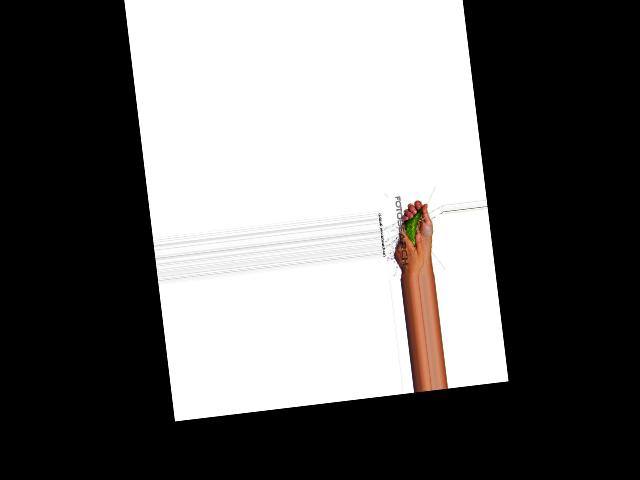cucumber: (401, 207, 426, 249)
